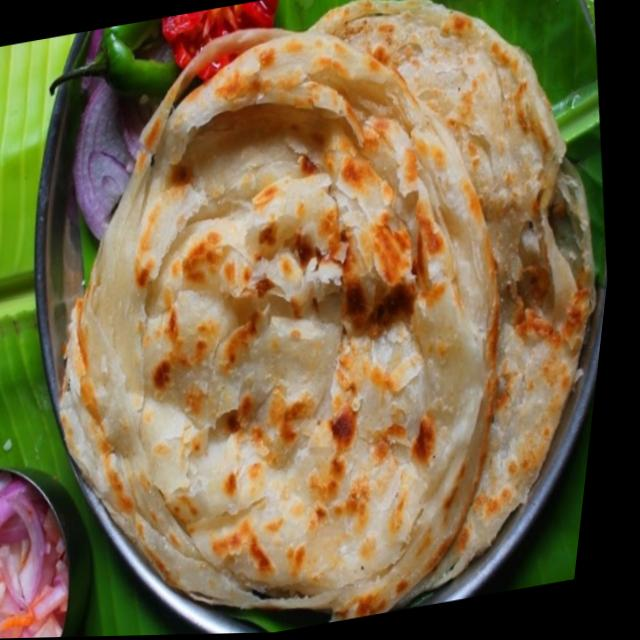PAROTTA: (59, 0, 600, 622)
